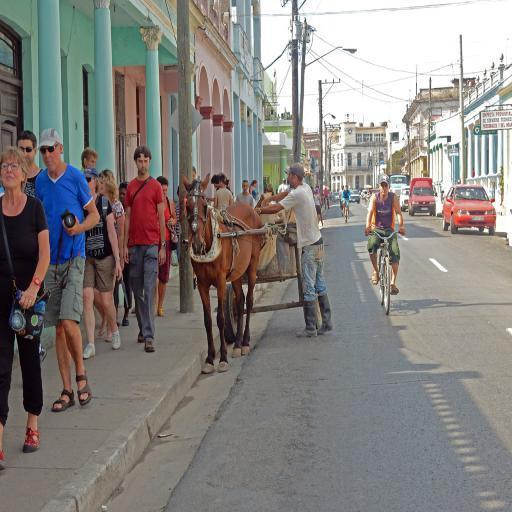horse: (181, 171, 265, 375)
